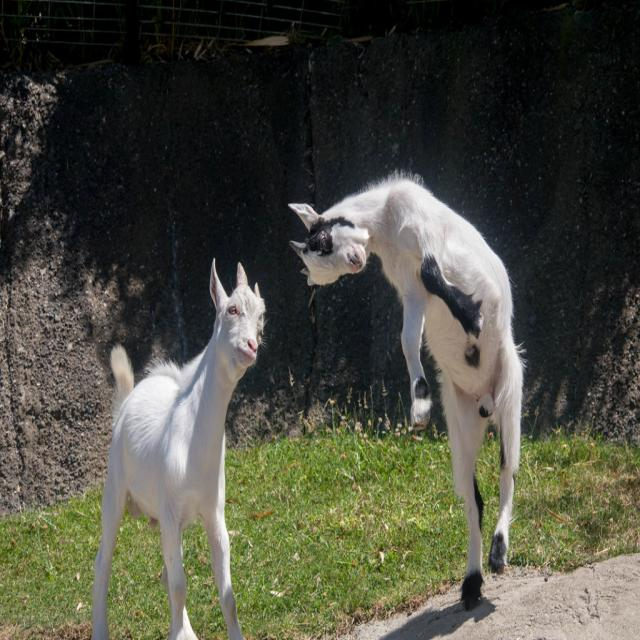Goat: (295, 202, 526, 578), (86, 256, 270, 640)
